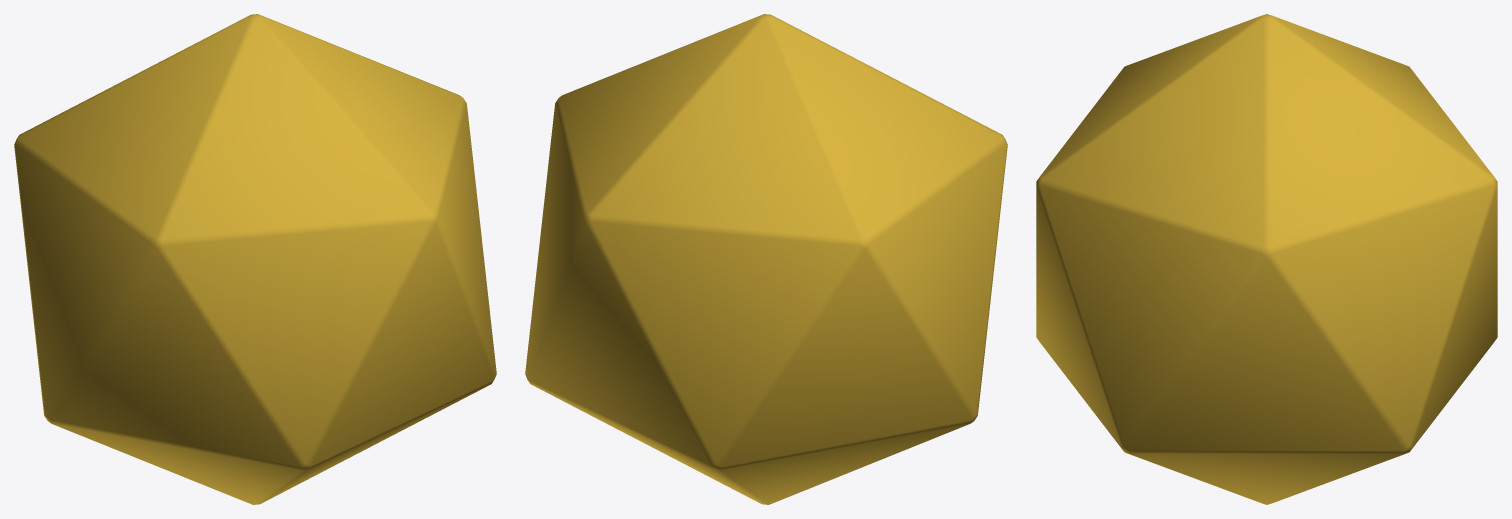
The model's file is dice20.fbx.
3 renders of one model, left to right at view 1: azimuth 30°, elevation 25°; view 2: azimuth 150°, elevation 25°; view 3: azimuth 270°, elevation 25°, orthographic.
Parts seen in each view (by area): view 1: dice20; view 2: dice20; view 3: dice20.
Part boxes in pixels (x1,y1,x2,y2): dice20: [14, 14, 496, 504]; dice20: [525, 14, 1007, 504]; dice20: [1036, 14, 1497, 504].
Bounding box in the file's own units: 178 × 197 × 169.
